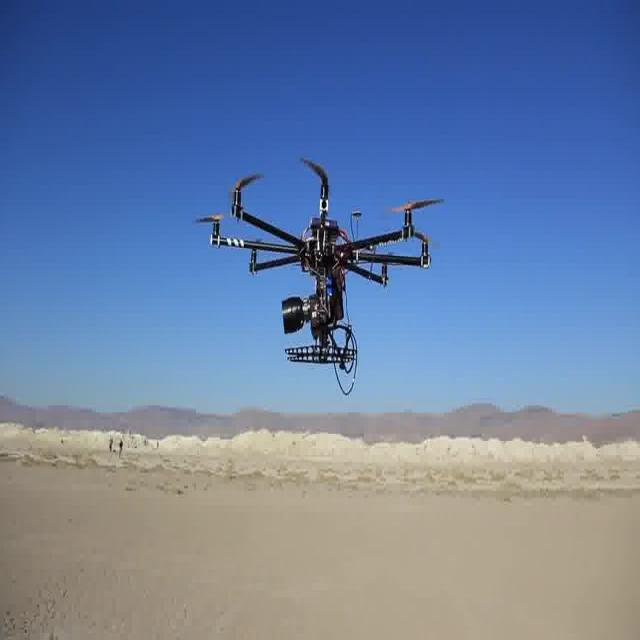drone: (204, 158, 436, 372)
